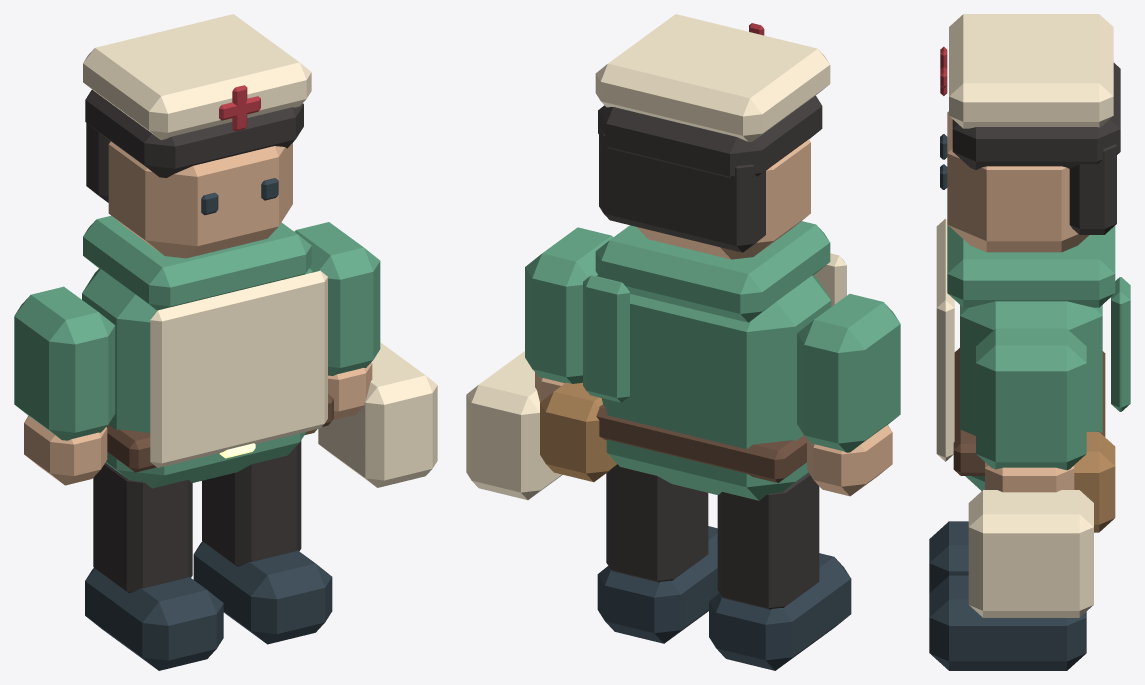
Rendered from person-medic.glb.
3 views of the same model, side by side, from view 1: azimuth 30°, elevation 25°; view 2: azimuth 150°, elevation 25°; view 3: azimuth 270°, elevation 25° (orthographic). The views are drawn at different scales.
Visible parts, largest first — view 1: medical-coat, medical-cap, head.004, sleeve.008, scarf.004, medical-bag, leg.008, tunic.004, boot.008, boot.009, leg.009, hair.004 (+5 smaller); view 2: tunic.004, medical-cap, sleeve.008, scarf.004, hair-back.004, leg.008, leg.009, medical-bag, hair.004, boot.008, sleeve.009, boot.009 (+6 smaller); view 3: medical-cap, medical-bag, sleeve.009, head.004, scarf.004, boot.009, tunic.004, hair.004, medical-coat, hair-back.004, satchel.004, scarf-tail.004 (+3 smaller).
Part boxes in pixels (box(x1,y1,x2,y2)): medical-coat: box(150, 270, 327, 467); medical-cap: box(83, 14, 311, 140); head.004: box(108, 141, 292, 258); sleeve.008: box(14, 286, 115, 440); scarf.004: box(83, 215, 311, 310); medical-bag: box(318, 342, 437, 487); leg.008: box(93, 463, 192, 592); tunic.004: box(82, 268, 312, 488); boot.008: box(85, 568, 223, 670); boot.009: box(193, 541, 332, 644); leg.009: box(202, 440, 301, 566); hair.004: box(85, 90, 303, 177); tunic.004: box(596, 275, 831, 500); medical-cap: box(595, 14, 830, 141); sleeve.008: box(797, 294, 900, 452); scarf.004: box(595, 221, 830, 322); hair-back.004: box(599, 128, 765, 252); leg.008: box(717, 473, 819, 609); leg.009: box(606, 464, 708, 582); medical-bag: box(466, 351, 562, 500); hair.004: box(598, 95, 822, 178); boot.008: box(709, 553, 851, 670); sleeve.009: box(525, 227, 613, 383); boot.009: box(597, 526, 719, 643); medical-cap: box(949, 14, 1113, 128); medical-bag: box(968, 490, 1093, 617); sleeve.009: box(976, 328, 1086, 470); head.004: box(947, 111, 1088, 252); scarf.004: box(947, 225, 1115, 307); boot.009: box(929, 575, 1086, 670); tunic.004: box(960, 301, 1102, 490); hair.004: box(952, 63, 1120, 169); medical-coat: box(936, 218, 954, 461); hair-back.004: box(1069, 144, 1116, 234); satchel.004: box(1074, 432, 1115, 532); scarf-tail.004: box(1111, 277, 1130, 411).
Size of the model in its own units: 1.27 by 1.8 by 0.5625.
